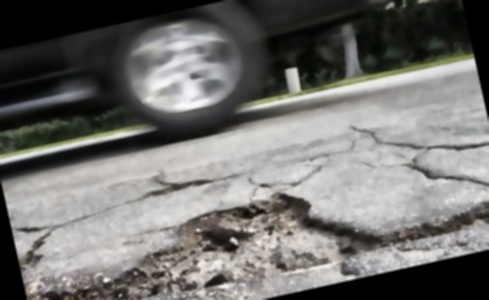pothole: (91, 167, 389, 300)
